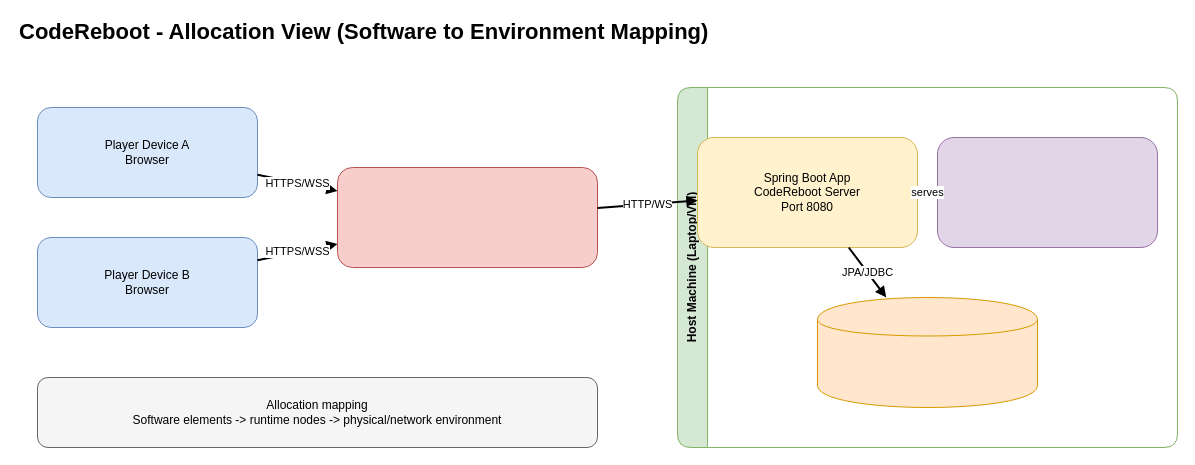
Image size: 1195x465. Some labels were removed from this diagram. The shapes that lost their labels are listed below. From the top down, each one's centre as x and y in pixels, then its label:
At (x=1047, y=192): "Static Web Client Assets login.html, room.html, game.html js/*, css/*".
At (x=467, y=217): "Cloudflare Tunnel (optional) TLS termination + forwarding".
At (x=927, y=352): "PostgreSQL localhost:5432 User/Auth persistence".
